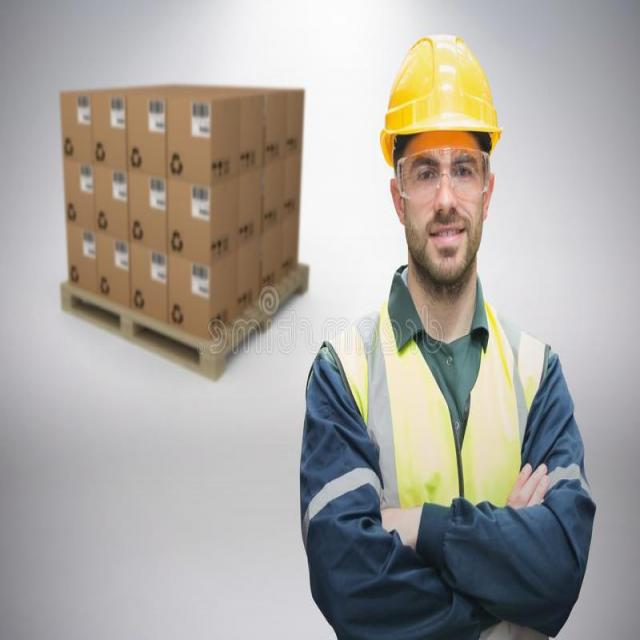Reflective-Jacket: (332, 297, 550, 520)
Safety-Helmet: (378, 30, 504, 149)
